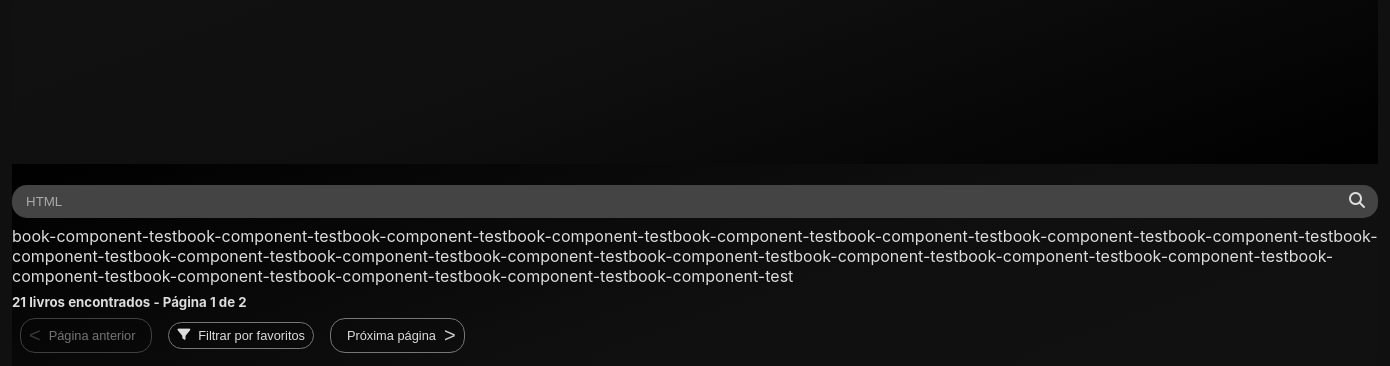
Test: <BookList /> › Navegação de páginas › deve desabilitar o botão de próxima página quando estivermos na última página
(page scrolled)
Click the button with id "next-page".
click(397, 336)  # box [330, 318, 465, 353]
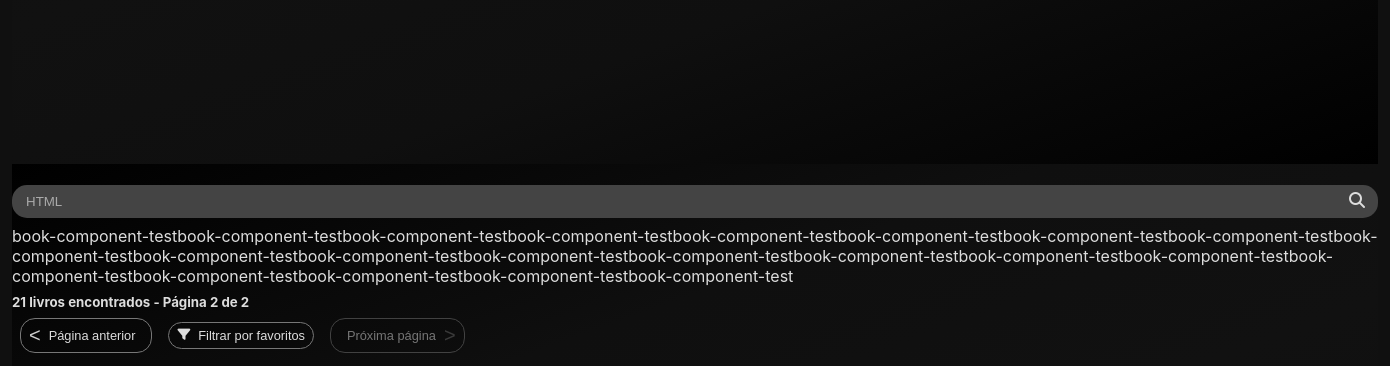
Now the button with id "next-page" is disabled, box [330, 318, 465, 353]
Now the button "< Página anterior" is enabled, box [20, 318, 152, 353]
